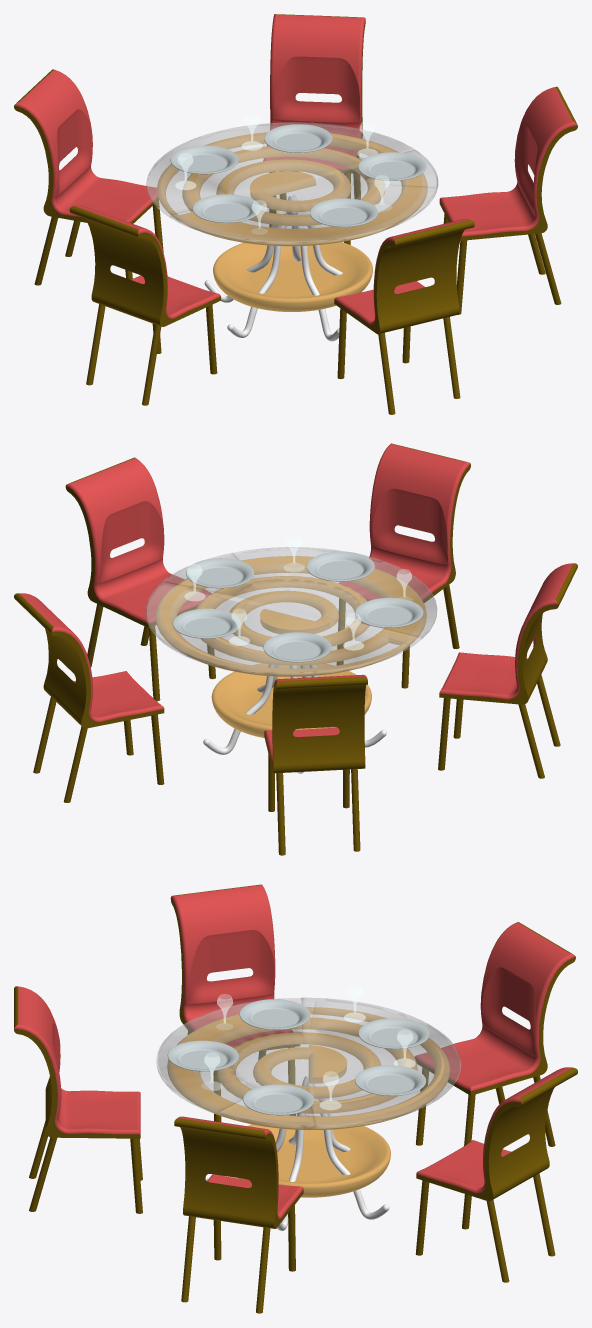
Rendered from dining_set-transformed.glb.
3 renders of one model, top to bottom at view 1: azimuth 30°, elevation 25°; view 2: azimuth 150°, elevation 25°; view 3: azimuth 270°, elevation 25°, orthographic. The views are drawn at different scales.
Parts seen in each view (by area): view 1: Body45, Body38, Body48, Body1, Body49, Body50, Body47, Body46, Body42, Body58, Body51, Body57 (+2 smaller); view 2: Body45, Body38, Body47, Body1, Body49, Body48, Body50, Body46, Body58, Body59, Body56, Body51 (+2 smaller); view 3: Body45, Body38, Body49, Body50, Body47, Body48, Body1, Body46, Body42, Body57, Body51, Body56 (+2 smaller).
Boxes of the visible parts, x1=… form: Body45: x1=146, y1=122, x2=438, y2=244; Body38: x1=157, y1=132, x2=427, y2=246; Body48: x1=263, y1=14, x2=365, y2=244; Body1: x1=334, y1=218, x2=474, y2=414; Body49: x1=14, y1=69, x2=163, y2=285; Body50: x1=69, y1=205, x2=220, y2=405; Body47: x1=439, y1=86, x2=577, y2=314; Body46: x1=213, y1=242, x2=372, y2=311; Body42: x1=204, y1=194, x2=342, y2=341; Body58: x1=170, y1=145, x2=238, y2=174; Body51: x1=192, y1=194, x2=260, y2=222; Body57: x1=358, y1=152, x2=426, y2=180; Body45: x1=145, y1=547, x2=437, y2=675; Body38: x1=155, y1=556, x2=426, y2=676; Body47: x1=65, y1=457, x2=215, y2=701; Body1: x1=336, y1=443, x2=470, y2=688; Body49: x1=264, y1=674, x2=367, y2=855; Body48: x1=14, y1=593, x2=164, y2=802; Body50: x1=438, y1=563, x2=577, y2=778; Body46: x1=211, y1=663, x2=371, y2=737; Body58: x1=263, y1=632, x2=331, y2=662; Body59: x1=172, y1=608, x2=240, y2=638; Body56: x1=306, y1=551, x2=374, y2=581; Body51: x1=355, y1=597, x2=423, y2=627; Body45: x1=156, y1=997, x2=461, y2=1128; Body38: x1=167, y1=1007, x2=449, y2=1130; Body49: x1=414, y1=922, x2=575, y2=1146; Body50: x1=170, y1=884, x2=300, y2=1122; Body47: x1=174, y1=1116, x2=303, y2=1313; Body48: x1=415, y1=1067, x2=577, y2=1282; Body1: x1=14, y1=986, x2=142, y2=1213; Body46: x1=238, y1=1115, x2=390, y2=1197; Body42: x1=206, y1=1074, x2=389, y2=1230; Body57: x1=243, y1=1084, x2=314, y2=1115; Body51: x1=239, y1=999, x2=310, y2=1029; Body56: x1=167, y1=1040, x2=238, y2=1071.
Bounding box in the file's own units: 3.52 × 1.28 × 3.36.
